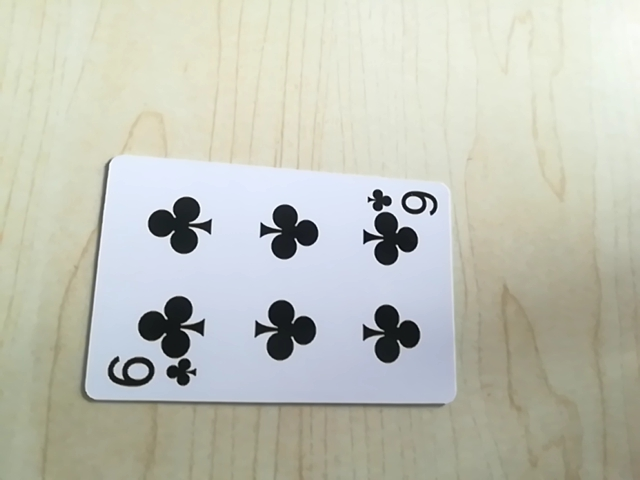mh 6: (102, 355, 200, 395), (366, 188, 443, 220)
